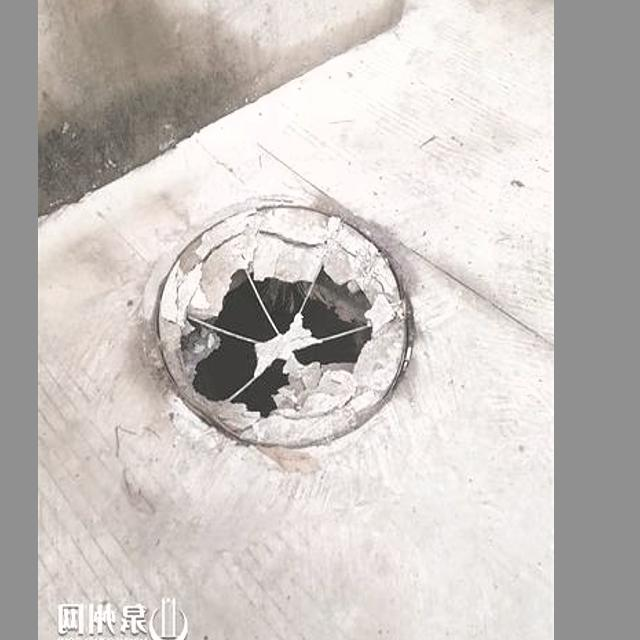broke: (103, 189, 453, 458)
